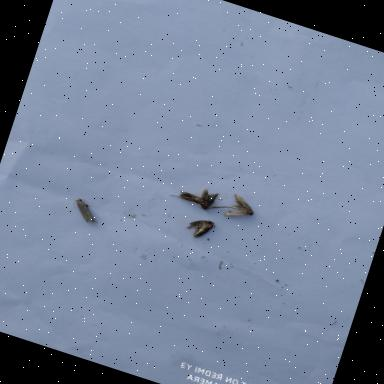pbw: (218, 189, 258, 225), (66, 194, 104, 227), (180, 212, 218, 244), (192, 184, 226, 218), (167, 185, 210, 209)
